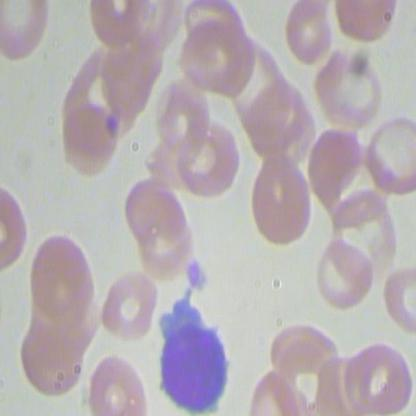Platelets: (183, 257, 211, 294)
RBC: (176, 16, 259, 99), (245, 153, 315, 247), (313, 48, 385, 133), (343, 340, 415, 415), (178, 119, 243, 199), (58, 102, 120, 179), (316, 237, 374, 314), (99, 268, 158, 341), (365, 114, 415, 200), (85, 348, 146, 415), (282, 1, 335, 64), (335, 1, 400, 43), (383, 263, 415, 336)
WBC: (152, 288, 240, 415)
